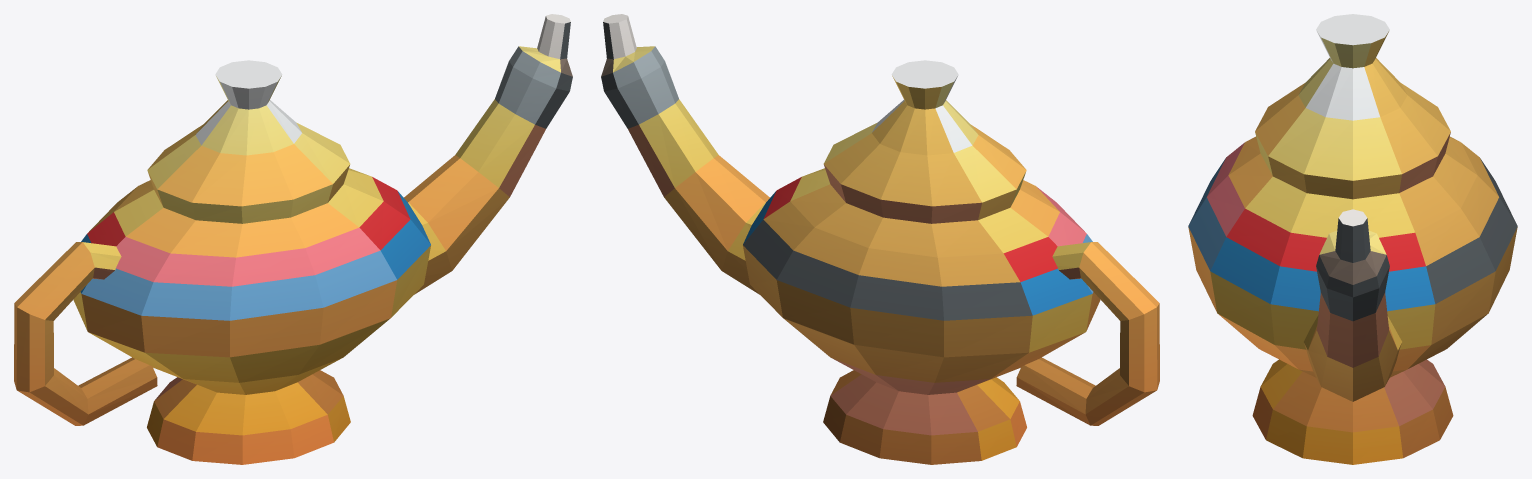
The model's file is source.glb.
The picture shows the model from 3 angles, left to right: view 1: azimuth 30°, elevation 25°; view 2: azimuth 150°, elevation 25°; view 3: azimuth 270°, elevation 25°; orthographic projection. The views are drawn at different scales.
Parts seen in each view (by area): view 1: model; view 2: model; view 3: model.
Boxes of the visible parts, left/top/right/bottom form: model: left=14, top=14, right=572, bottom=464; model: left=601, top=14, right=1159, bottom=464; model: left=1188, top=14, right=1517, bottom=464.
Size of the model in its own units: 0.8751 by 0.53 by 0.41.
Materials: 1 (1 with a texture image).
